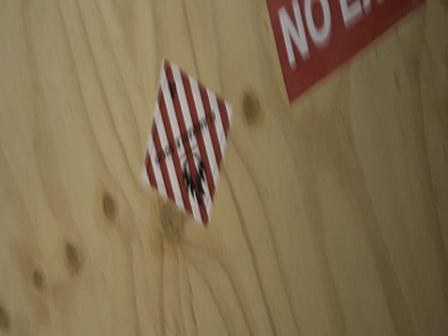flammable-solid: (139, 57, 234, 227)
